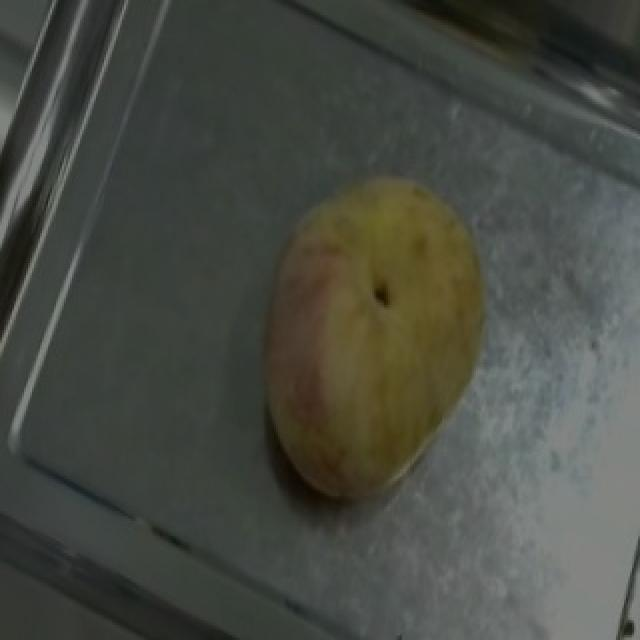Fruit: (222, 134, 534, 464)
